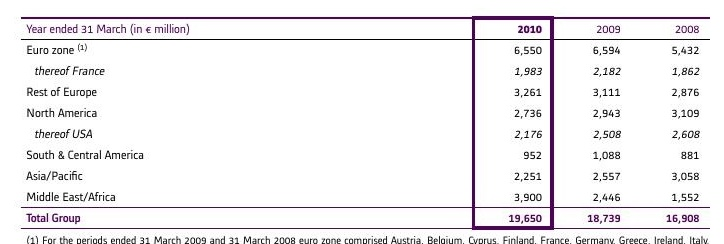table: (0, 0, 724, 244)
